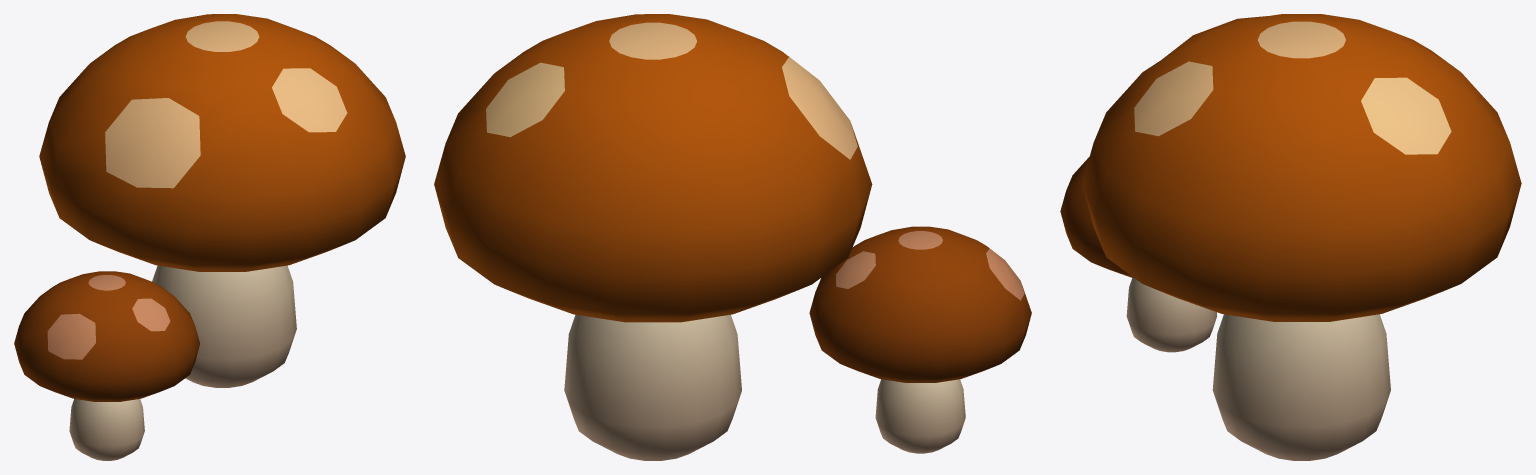
File: Mushroom_Double_02.fbx
The picture shows the model from 3 angles, left to right: view 1: azimuth 30°, elevation 25°; view 2: azimuth 150°, elevation 25°; view 3: azimuth 270°, elevation 25°; orthographic projection. The views are drawn at different scales.
Visible parts, largest first — view 1: Mushroom_Double_02; view 2: Mushroom_Double_02; view 3: Mushroom_Double_02.
Part boxes in pixels (left/top/right/bottom): Mushroom_Double_02: left=14, top=14, right=405, bottom=460; Mushroom_Double_02: left=434, top=14, right=1031, bottom=460; Mushroom_Double_02: left=1060, top=14, right=1521, bottom=460.
Bounding box in the file's own units: 55.54 × 43.87 × 45.66.
